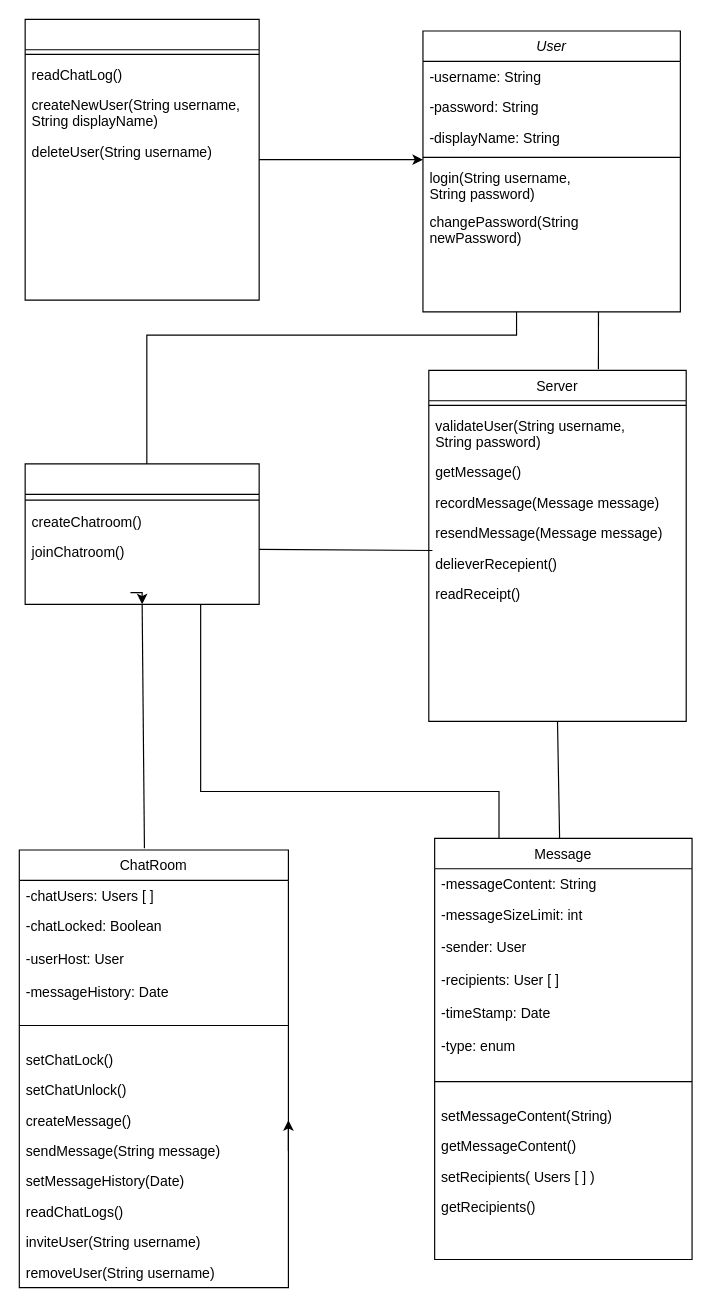
Some shapes in this 711 by 1307 pixel diagram are drawn without their labels. The box of each missing label's shape, as (x1, y1, x2, y2) in pixels:
Client: (24, 463, 259, 604)
SuperVisor: (24, 18, 259, 300)
